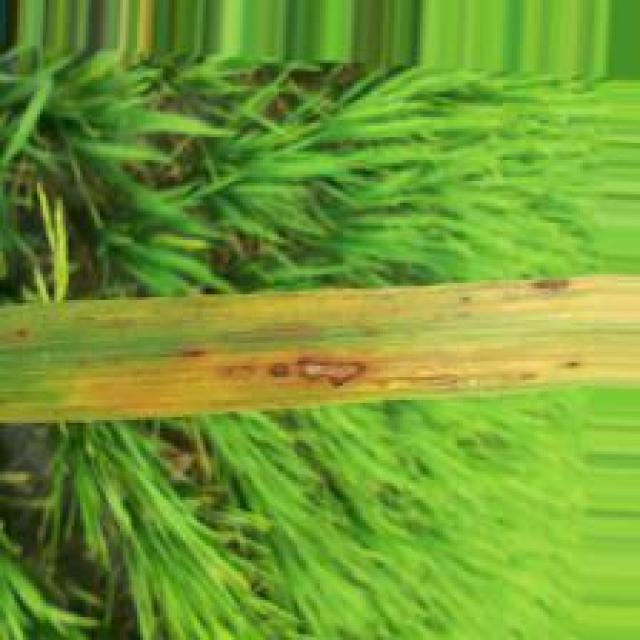Rice Tungro: (67, 348, 639, 417)
